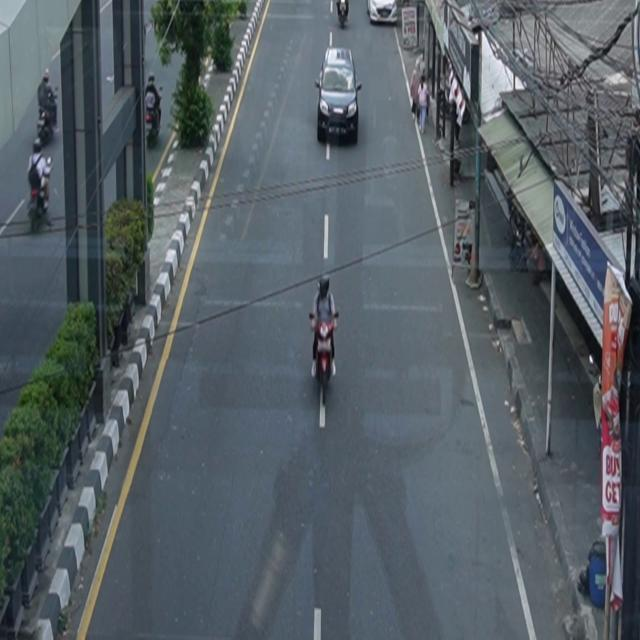car: (315, 46, 363, 145), (367, 1, 399, 26)
